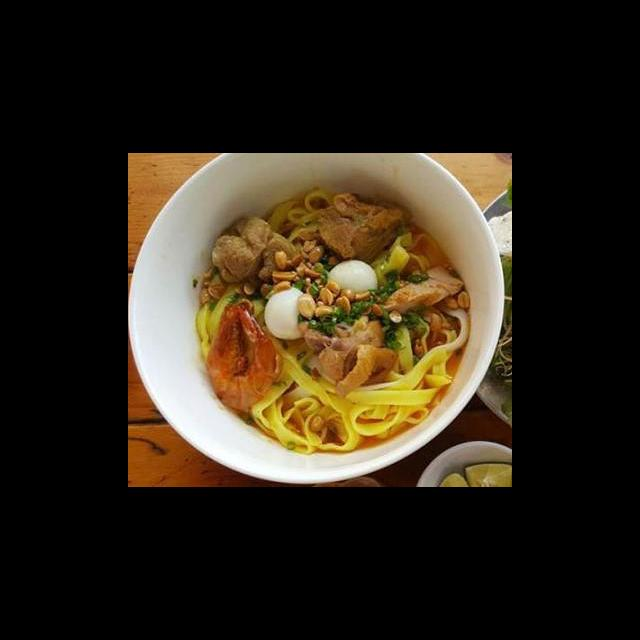mi: (247, 322, 459, 456), (368, 229, 440, 293), (193, 280, 245, 364), (264, 188, 335, 249)
thit ga: (287, 191, 415, 267), (297, 316, 400, 398), (209, 215, 302, 288)
tom: (203, 293, 282, 414)
trung: (261, 285, 318, 341), (325, 258, 379, 301)
